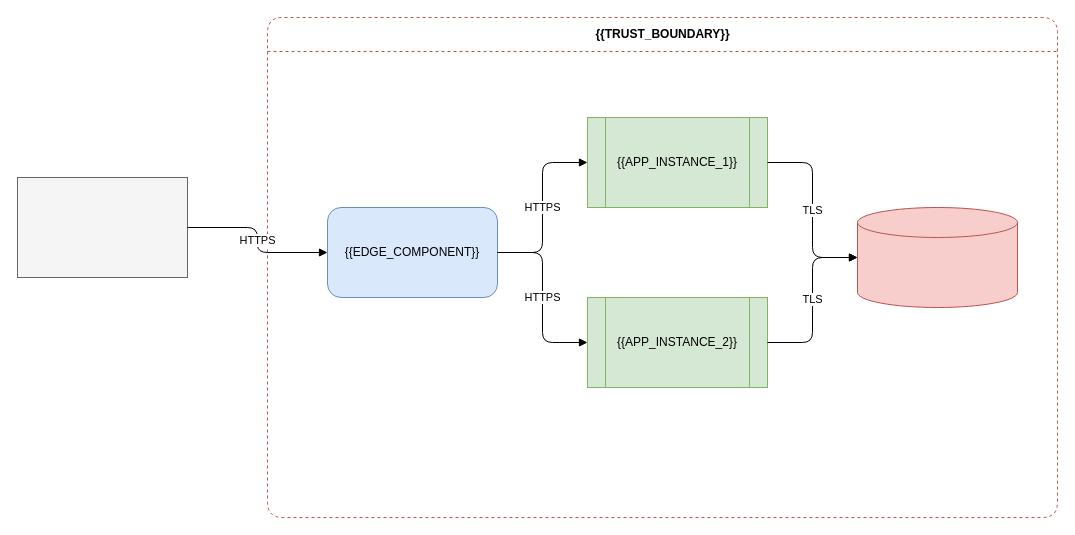
Image size: 1075x535. Some labels were removed from this diagram. Each missing label, with the centre of its shape:
"Internet / Usuários" belongs at (x=102, y=227).
"{{PRODUCTION_DATABASE}}" belongs at (x=937, y=257).
